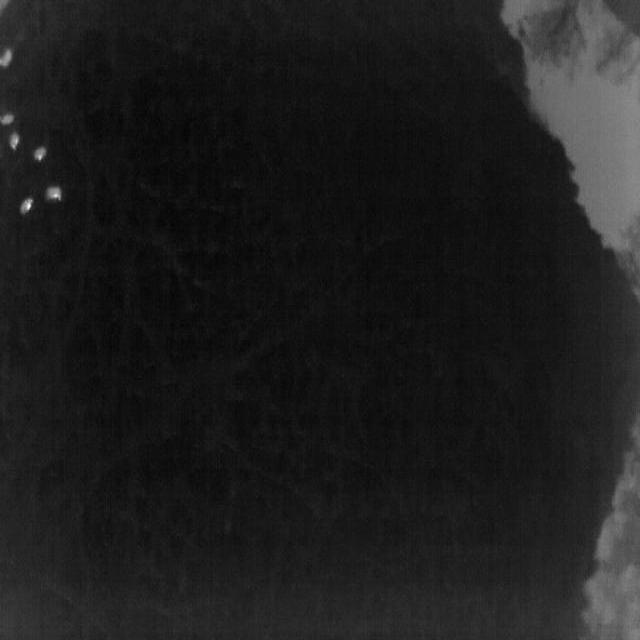deer: (46, 186, 62, 201), (0, 49, 12, 68), (20, 198, 33, 215), (34, 146, 46, 161), (10, 132, 20, 149)
